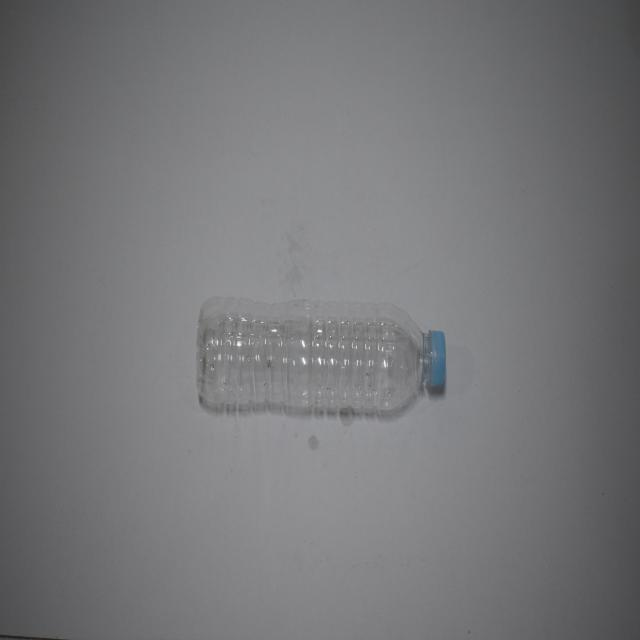bottle: (185, 282, 467, 448)
